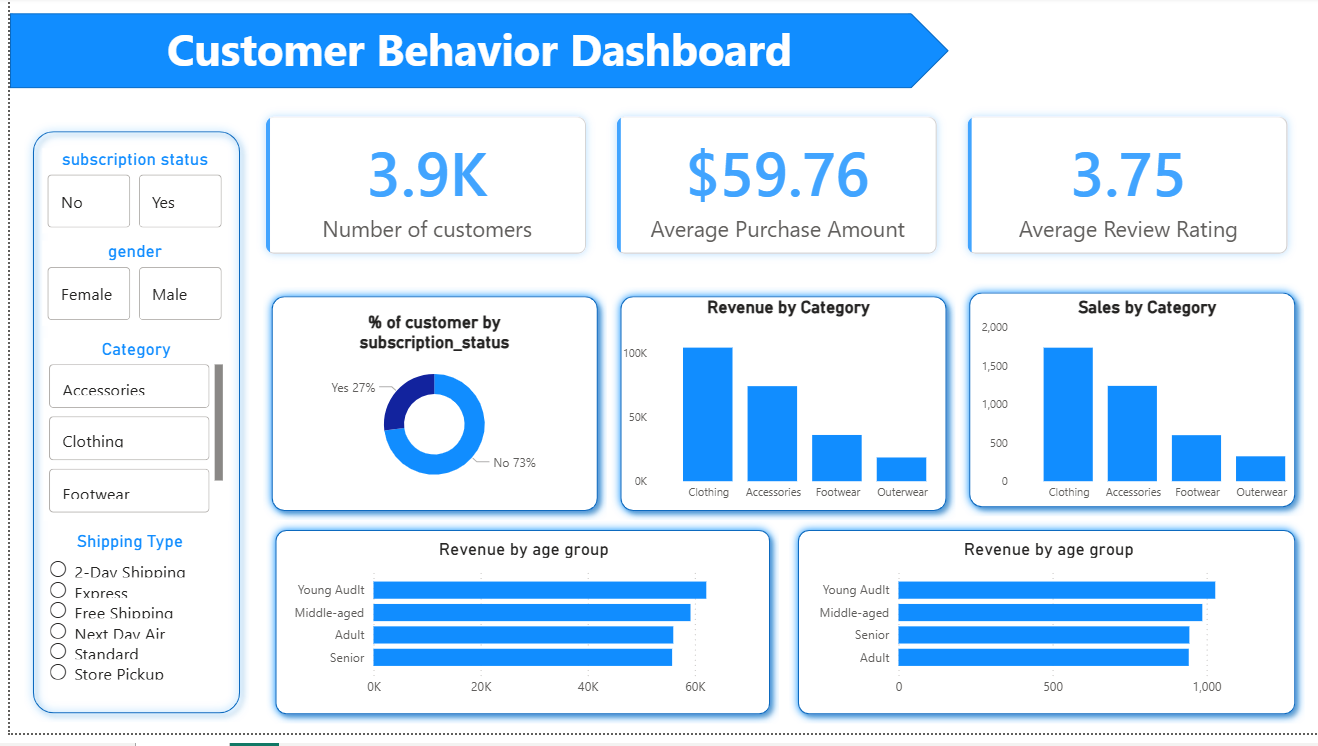

This screenshot's page, from the dashboard's own definition file:
{"tool":"powerbi","page":{"name":"Page 1","canvas":[1280,720],"ordinal":0},"visuals":[{"type":"cardVisual","fields":{"Data":["customer_behavior mytable.Number of customers","customer_behavior mytable.Average Purchase Amount","customer_behavior mytable.Average Review Rating"]},"box":[223.1,89.2,1057.2,190.9],"z":0},{"type":"shape","box":[0,15.9,918.3,73.4],"z":1000},{"type":"textbox","box":[0,15.9,918.3,73.4],"z":2000},{"type":"shape","box":[246.6,283.8,337.1,228],"z":3000},{"type":"donutChart","title":"% of customer by subscription_status","fields":{"Category":["customer_behavior mytable.subscription_status"],"Y":["CountNonNull(customer_behavior mytable.customer_id)"]},"box":[267.7,308.6,295,178.5],"z":4000},{"type":"shape","box":[588.1,283.8,337.1,228],"z":5000},{"type":"clusteredColumnChart","title":"Revenue by Category","fields":{"Y":["Sum(customer_behavior mytable.purchase_amount)"],"Category":["customer_behavior mytable.category"]},"box":[594.9,293.7,334.6,208.2],"z":6000},{"type":"shape","box":[929.5,280.1,337.1,228],"z":7000},{"type":"clusteredColumnChart","title":"Sales by Category","fields":{"Y":["CountNonNull(customer_behavior mytable.customer_id)"],"Category":["customer_behavior mytable.category"]},"box":[945.6,293.7,334.6,208.2],"z":8000},{"type":"shape","box":[13.6,122.7,220.6,587.5],"z":9000},{"type":"advancedSlicerVisual","fields":{"Values":["customer_behavior mytable.subscription_status"]},"box":[32.2,147.5,180.9,83],"z":10000},{"type":"advancedSlicerVisual","fields":{"Values":["customer_behavior mytable.gender"]},"box":[32.2,238,180.9,83],"z":11000},{"type":"advancedSlicerVisual","fields":{"Values":["customer_behavior mytable.category"]},"box":[33.5,333.4,180.9,178.5],"z":12000},{"type":"listSlicer","fields":{"Values":["customer_behavior mytable.shipping_type"]},"box":[33.5,521.8,168.6,198.3],"z":13000},{"type":"shape","box":[250.3,511.9,501.9,198.3],"z":14000},{"type":"clusteredBarChart","title":"Revenue by age group","fields":{"Y":["Sum(customer_behavior mytable.purchase_amount)"],"Category":["customer_behavior mytable.age_group"]},"box":[267.7,529.2,469.7,163.6],"z":15000},{"type":"shape","box":[762.2,511.9,504.4,198.3],"z":16000},{"type":"clusteredBarChart","title":"Revenue by age group","fields":{"Category":["customer_behavior mytable.age_group"],"Y":["CountNonNull(customer_behavior mytable.customer_id)"]},"box":[780.8,529.2,469.7,163.6],"z":17000}]}

Visuals, with their boxes in screenshot pixels (x1, y1, x2, y2), scaled from the page's 1280x720 canvas onto the 1318x746 screenshot:
cardVisual - customer_behavior mytable.Number of customers x customer_behavior mytable.Average Purchase Amount: bbox(230, 92, 1317, 290)
shape: bbox(0, 16, 946, 93)
textbox: bbox(0, 16, 946, 93)
shape: bbox(254, 294, 601, 530)
"% of customer by subscription_status" donutChart: bbox(276, 320, 579, 505)
shape: bbox(606, 294, 953, 530)
"Revenue by Category" clusteredColumnChart: bbox(613, 304, 957, 520)
shape: bbox(957, 290, 1304, 526)
"Sales by Category" clusteredColumnChart: bbox(974, 304, 1317, 520)
shape: bbox(14, 127, 241, 736)
advancedSlicerVisual - customer_behavior mytable.subscription_status: bbox(33, 153, 219, 239)
advancedSlicerVisual - customer_behavior mytable.gender: bbox(33, 247, 219, 333)
advancedSlicerVisual - customer_behavior mytable.category: bbox(34, 345, 221, 530)
listSlicer - customer_behavior mytable.shipping_type: bbox(34, 541, 208, 745)
shape: bbox(258, 530, 775, 736)
"Revenue by age group" clusteredBarChart: bbox(276, 548, 759, 718)
shape: bbox(785, 530, 1304, 736)
"Revenue by age group" clusteredBarChart: bbox(804, 548, 1288, 718)
